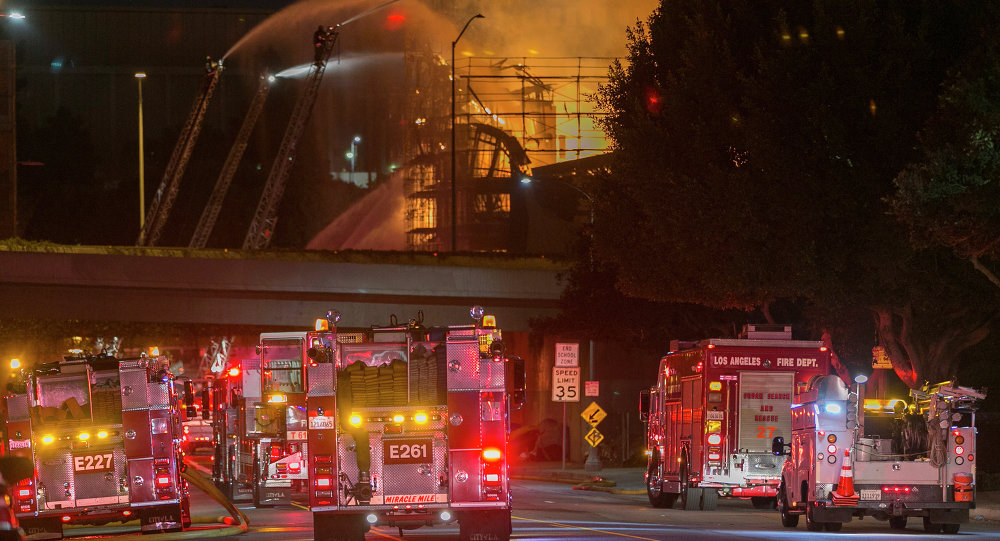Fire: (556, 81, 605, 155)
